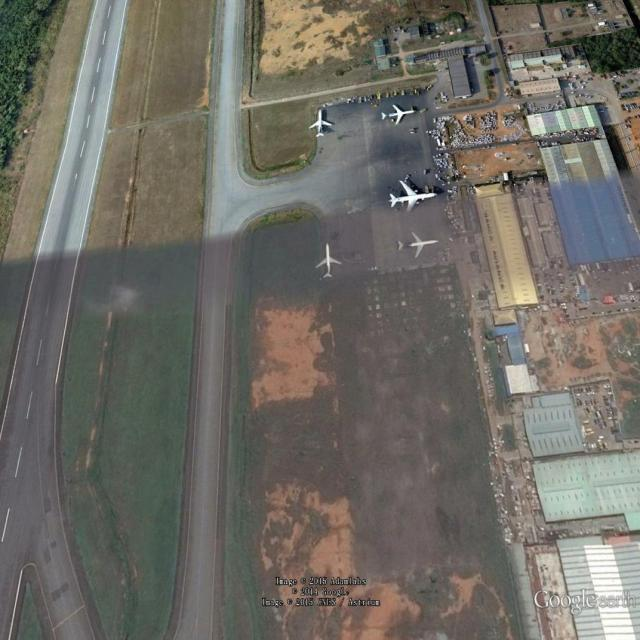aircraft: (385, 175, 440, 221), (394, 228, 443, 263), (314, 240, 345, 284), (379, 103, 418, 133), (309, 106, 334, 139)
